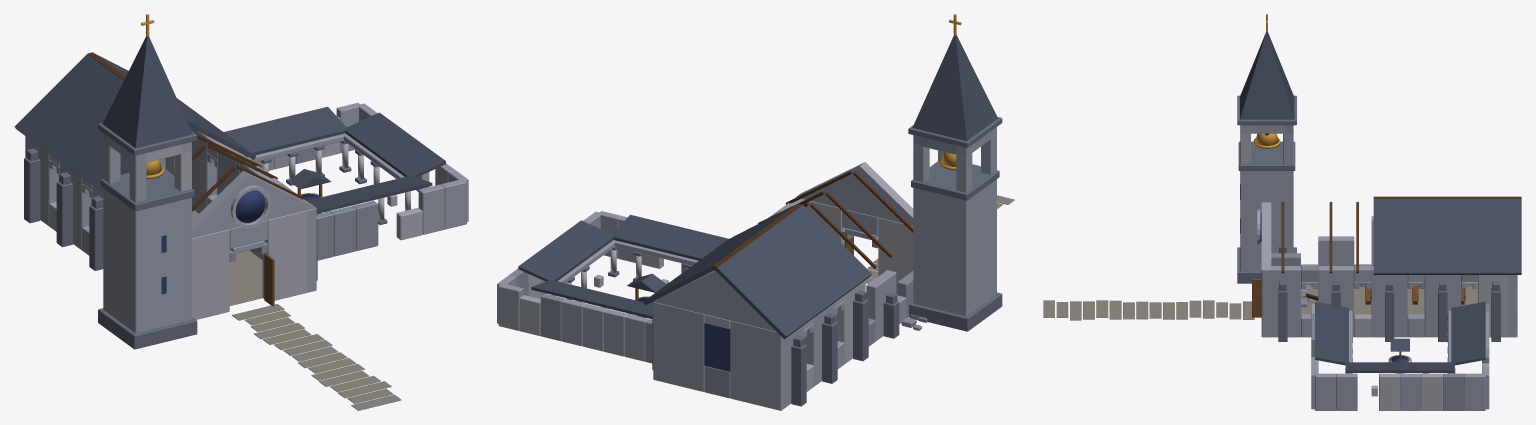
The model's file is abbaye.glb.
3 views of the same model, side by side, from view 1: azimuth 30°, elevation 25°; view 2: azimuth 150°, elevation 25°; view 3: azimuth 270°, elevation 25° (orthographic). The views are drawn at different scales.
Parts seen in each view (by area): view 1: Abbaye; view 2: Abbaye; view 3: Abbaye.
Boxes of the visible parts, <box> form: Abbaye: <box>14,14,468,410</box>; Abbaye: <box>497,14,1014,410</box>; Abbaye: <box>1043,14,1521,410</box>.
Size of the model in its own units: 33.85 by 26.94 by 44.9.
